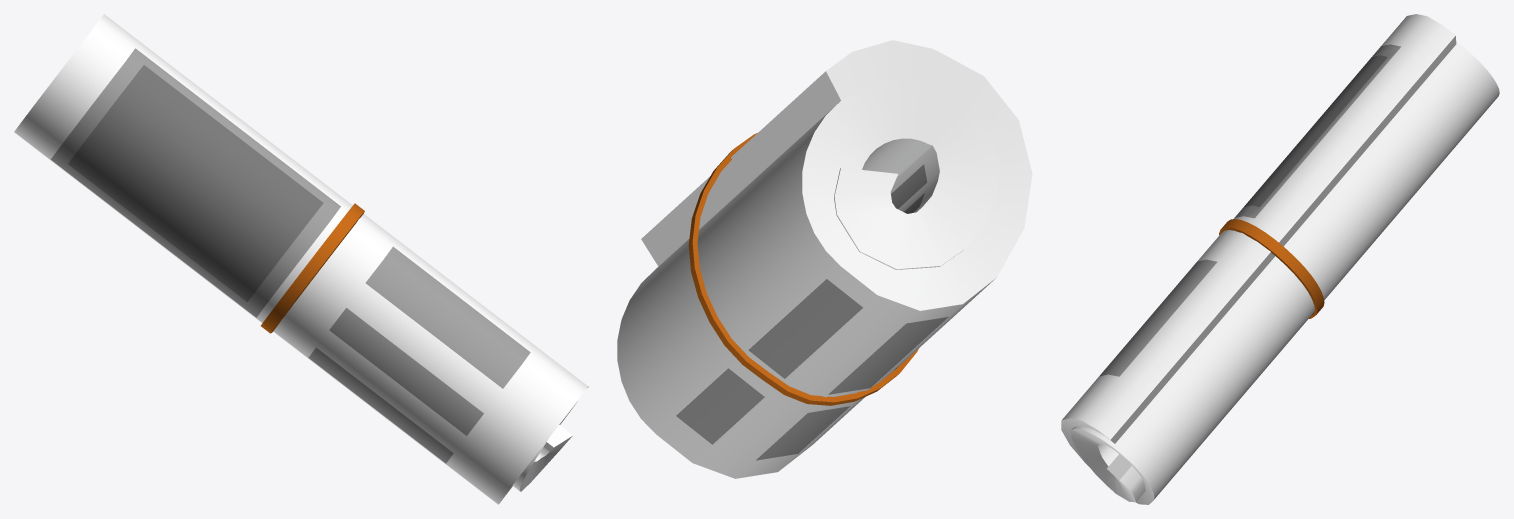
The model's file is rolled_up_newspaper.glb.
3 views of the same model, side by side, from view 1: azimuth 30°, elevation 25°; view 2: azimuth 150°, elevation 25°; view 3: azimuth 270°, elevation 25° (orthographic). The views are drawn at different scales.
Parts seen in each view (by area): view 1: Cylinder.502; view 2: Cylinder.502; view 3: Cylinder.502.
Part boxes in pixels (<box>): Cylinder.502: <box>14,14,588,504</box>; Cylinder.502: <box>617,40,1032,478</box>; Cylinder.502: <box>1061,14,1499,504</box>.
Size of the model in its own units: 2.19 by 2.26 by 2.37.
Materials: 1 (1 with a texture image).
